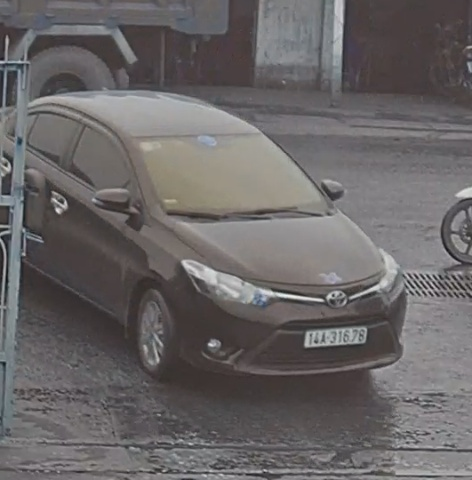vehicle plate: (301, 321, 371, 345)
